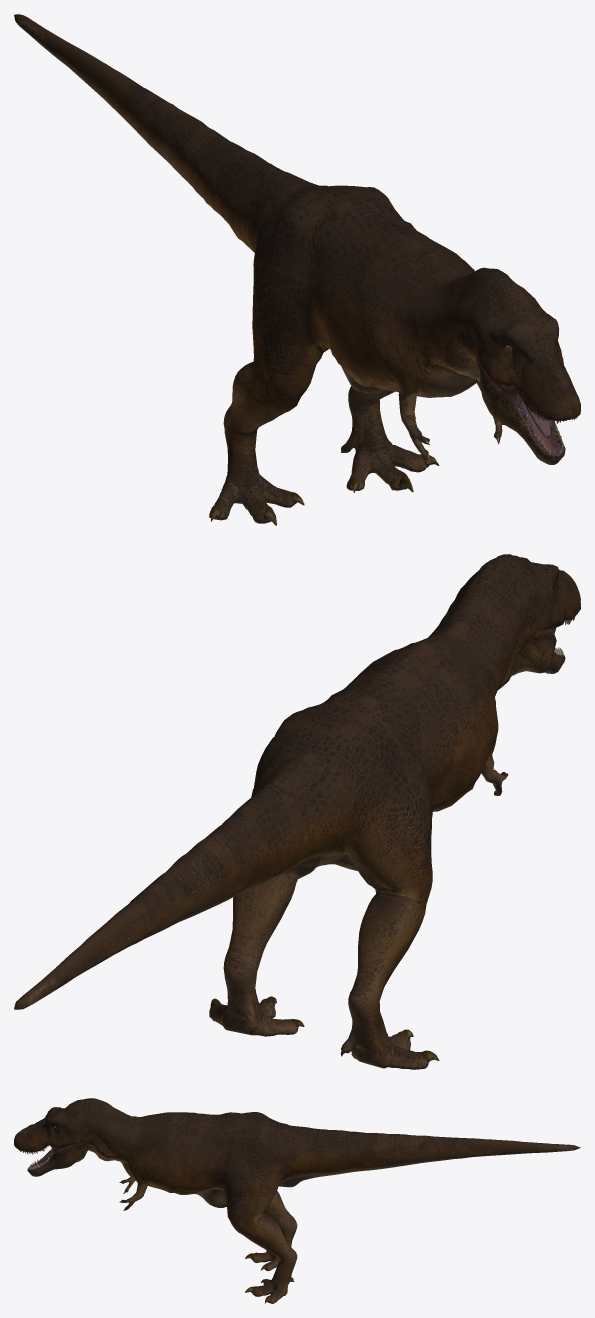
Rendered from t-rex.glb.
The picture shows the model from 3 angles, top to bottom: view 1: azimuth 30°, elevation 25°; view 2: azimuth 150°, elevation 25°; view 3: azimuth 270°, elevation 25°; orthographic projection. The views are drawn at different scales.
Visible parts, largest first — view 1: Tyrant_King_2_Body_0; view 2: Tyrant_King_2_Body_0; view 3: Tyrant_King_2_Body_0.
Part boxes in pixels (x1,y1,x2,y2): Tyrant_King_2_Body_0: (14, 14, 580, 525); Tyrant_King_2_Body_0: (14, 554, 580, 1069); Tyrant_King_2_Body_0: (14, 1098, 580, 1303).
Bounding box in the file's own units: 0.7828 × 1.16 × 3.31.
Materials: 2 (2 with a texture image).
